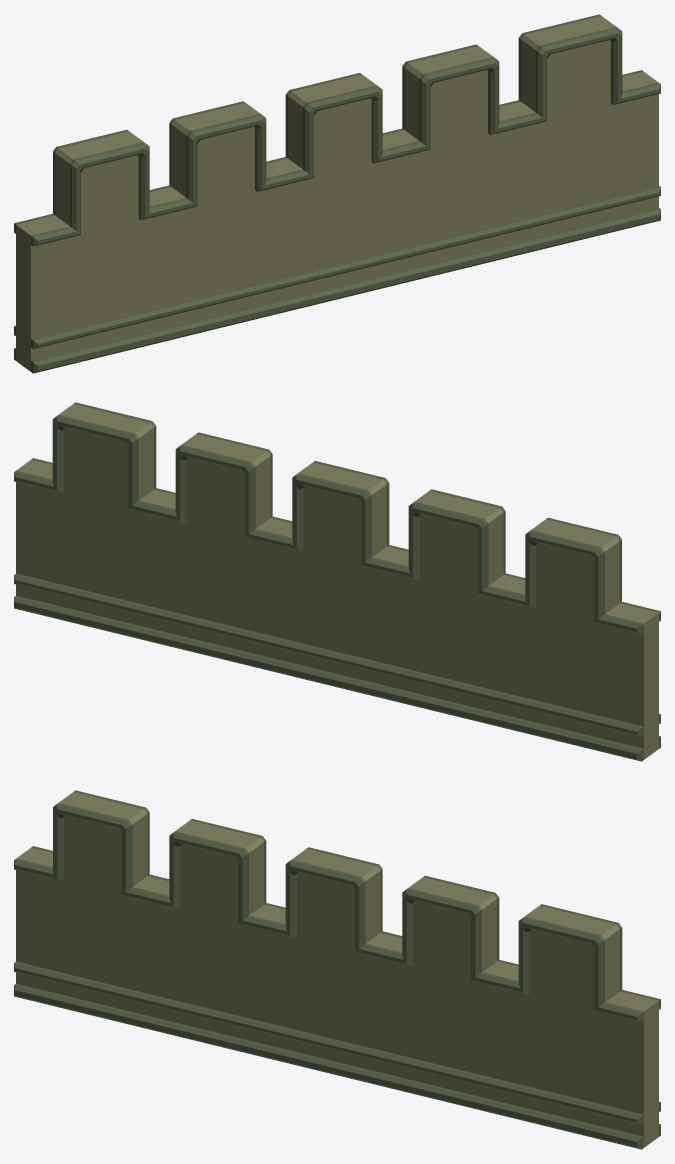
The model's file is wall_small01.fbx.
The picture shows the model from 3 angles, top to bottom: view 1: azimuth 30°, elevation 25°; view 2: azimuth 150°, elevation 25°; view 3: azimuth 330°, elevation 25°; orthographic projection.
Parts seen in each view (by area): view 1: wall_small01; view 2: wall_small01; view 3: wall_small01.
Part boxes in pixels (box(x1,y1,x2,y2)): wall_small01: box(14, 14, 660, 373); wall_small01: box(14, 402, 660, 761); wall_small01: box(14, 790, 660, 1149).
Bounding box in the file's own units: 14.62 × 4.5 × 0.9183.
